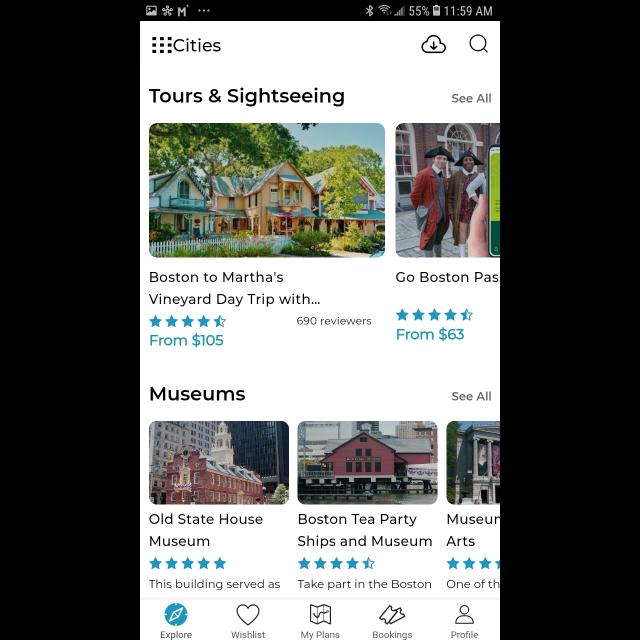icon: (298, 557, 376, 569), (150, 316, 227, 328), (150, 557, 226, 569), (396, 309, 472, 321), (446, 556, 499, 570), (165, 602, 188, 626), (379, 605, 405, 625), (237, 604, 260, 626), (422, 34, 446, 54), (310, 604, 332, 624), (456, 604, 474, 624), (468, 35, 488, 53), (152, 38, 172, 54)
image: (149, 123, 385, 257), (396, 123, 500, 257), (298, 422, 438, 504), (150, 422, 290, 504), (446, 422, 499, 504)
text: (148, 272, 320, 306), (298, 514, 432, 548), (150, 514, 262, 546), (150, 88, 344, 106), (446, 514, 500, 546), (148, 578, 280, 590), (150, 387, 246, 401), (298, 580, 432, 590), (150, 332, 223, 348), (396, 272, 498, 282), (396, 327, 464, 341), (173, 38, 220, 52), (297, 318, 371, 324), (448, 580, 500, 588), (452, 392, 492, 402), (300, 630, 340, 640), (372, 630, 412, 640), (452, 95, 492, 104), (160, 630, 192, 640), (231, 630, 265, 638), (452, 632, 478, 638)
uppertaskbar: (140, 1, 500, 22)
